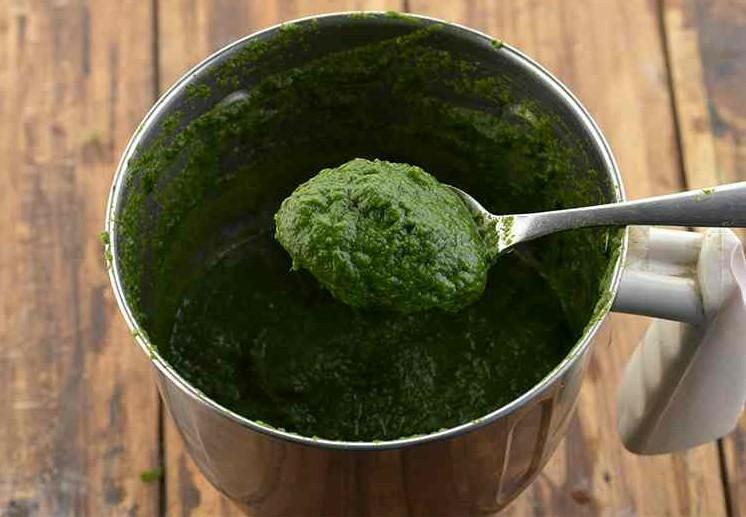GreenChutney: (165, 225, 568, 442), (275, 156, 487, 312)
